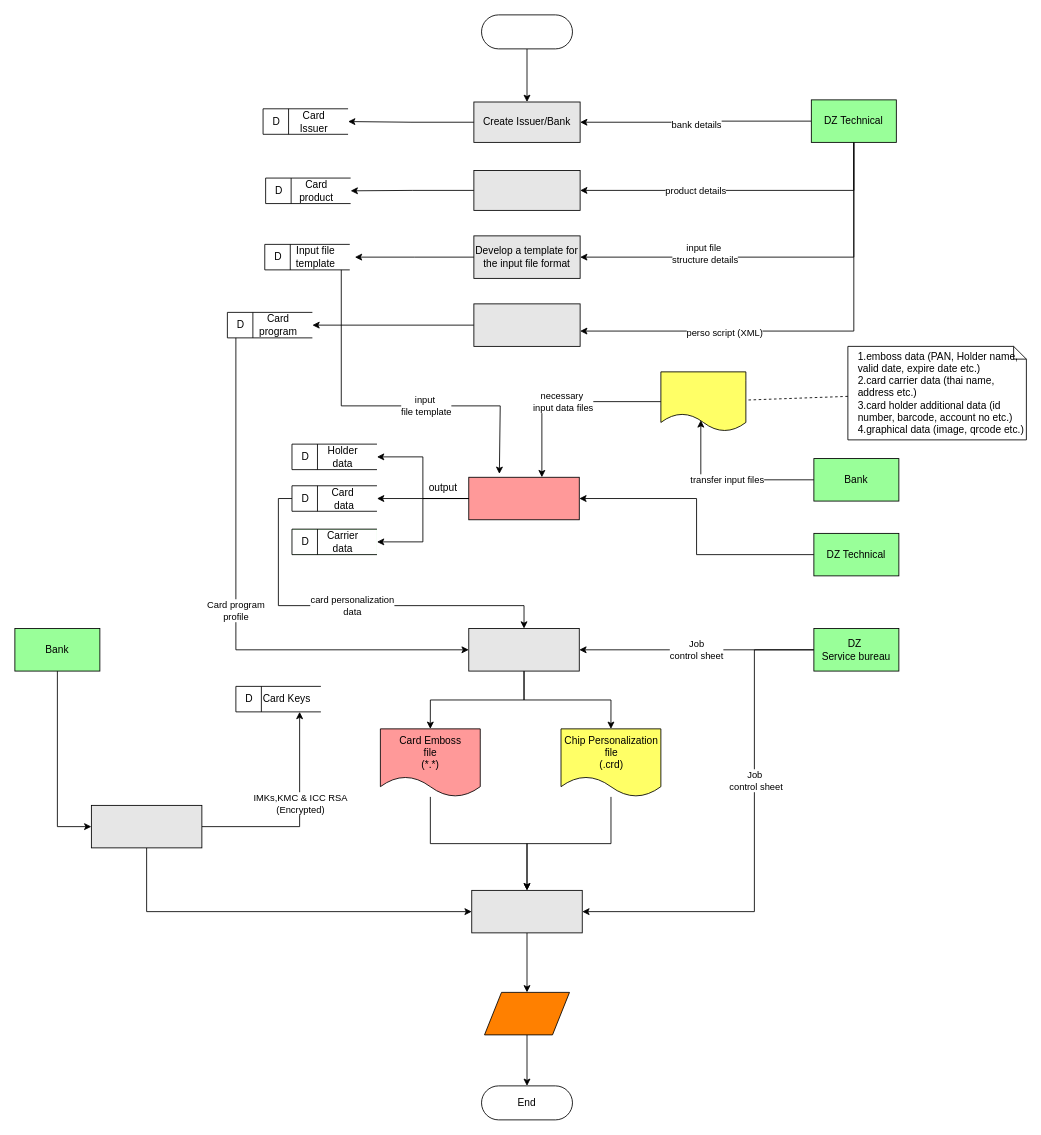
The diagram is 1041 pixels wide and 1135 high, and some of its shapes have lost their labels. The shapes that lost their labels are listed below. From the top down, each one's box as (x1, y1, x2, y2) in pixels, then its label:
(481, 14, 572, 49): Start
(473, 170, 580, 210): Create card product
(473, 303, 580, 346): Develop card program (CP)
(660, 371, 746, 431): input files (SFTP)
(468, 476, 579, 520): Execute the data conversion process
(468, 628, 579, 671): Conduct the EMV data preparation
(91, 805, 202, 848): Inject card keys (DES,RSA)
(471, 890, 582, 933): Personalize Card (Machine)
(484, 992, 570, 1035): Personalized cards
